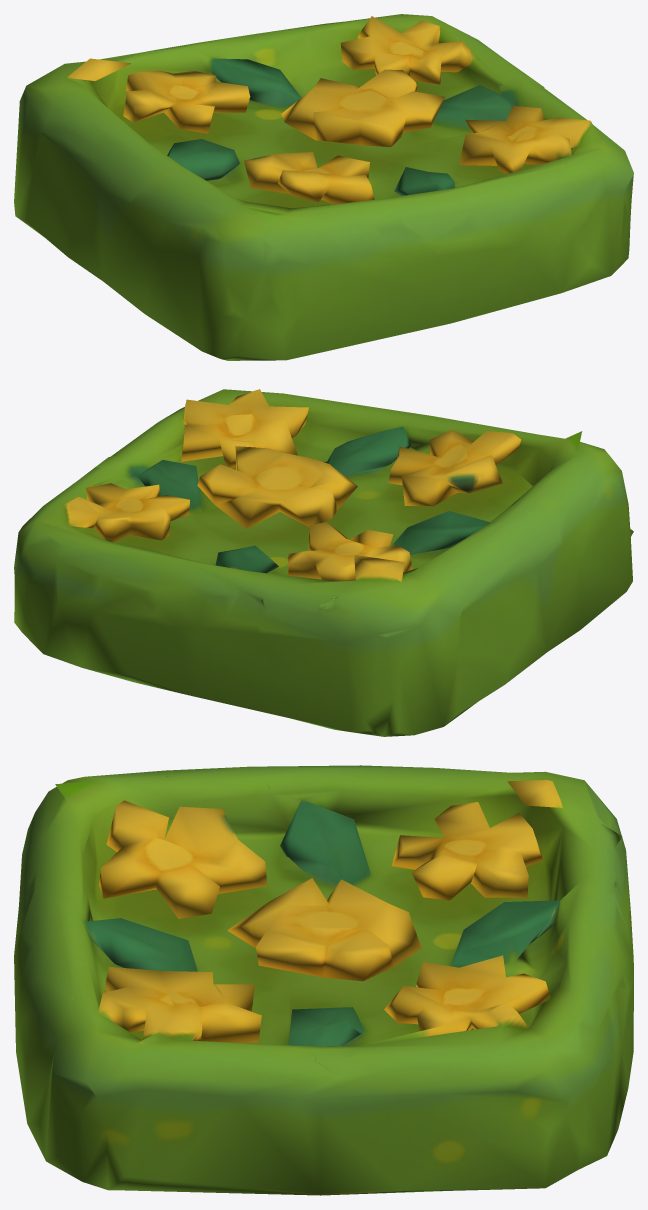
File: textures.glb
The picture shows the model from 3 angles, top to bottom: view 1: azimuth 30°, elevation 25°; view 2: azimuth 150°, elevation 25°; view 3: azimuth 270°, elevation 25°; orthographic projection. The views are drawn at different scales.
Parts seen in each view (by area): view 1: tripo_node_4516203e-7e83-40e0-a809-9cd5ebdaeebe; view 2: tripo_node_4516203e-7e83-40e0-a809-9cd5ebdaeebe; view 3: tripo_node_4516203e-7e83-40e0-a809-9cd5ebdaeebe.
Boxes of the visible parts, bbox=[...] form: tripo_node_4516203e-7e83-40e0-a809-9cd5ebdaeebe: bbox=[14, 14, 633, 360]; tripo_node_4516203e-7e83-40e0-a809-9cd5ebdaeebe: bbox=[14, 389, 633, 736]; tripo_node_4516203e-7e83-40e0-a809-9cd5ebdaeebe: bbox=[14, 765, 633, 1195].
Bounding box in the file's own units: 1 × 0.3173 × 0.9347.
1 material, 1 textured.
